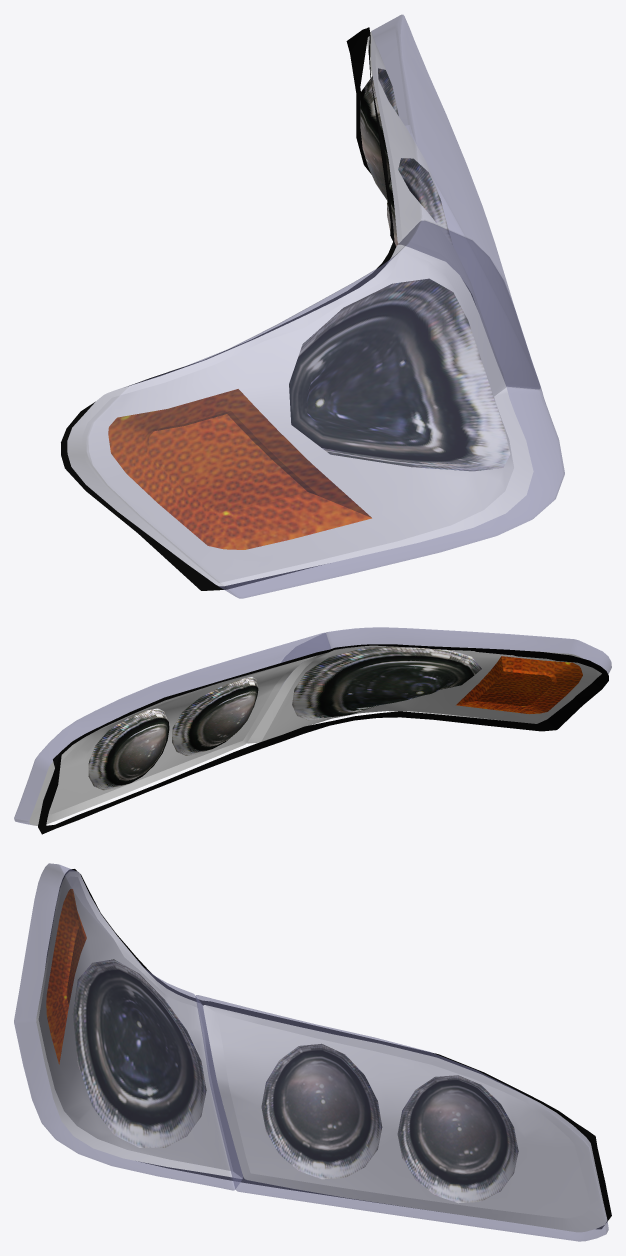
3 renders of one model, top to bottom at view 1: azimuth 30°, elevation 25°; view 2: azimuth 150°, elevation 25°; view 3: azimuth 270°, elevation 25°, orthographic. The views are drawn at different scales.
Visible parts, largest first — view 1: Y173_061B_R_Y173_061B_R_7_DTaSI, Y173_061B_R_Y173_061B_R_1_DaS, Y173_061B_R_Y173_061B_R_5_N, Y173_061B_R_Y173_061B_R_6_N, Y173_061B_R_8_D_Y173_061B_R, Y173_061B_R_Y173_061B_R_4_N, Y173_061B_R_Y173_061B_R_3_N; view 2: Y173_061B_R_Y173_061B_R_1_DaS, Y173_061B_R_Y173_061B_R_7_DTaSI, Y173_061B_R_Y173_061B_R_5_N, Y173_061B_R_8_D_Y173_061B_R, Y173_061B_R_Y173_061B_R_6_N, Y173_061B_R_Y173_061B_R_4_N, Y173_061B_R_Y173_061B_R_3_N; view 3: Y173_061B_R_Y173_061B_R_7_DTaSI, Y173_061B_R_Y173_061B_R_1_DaS, Y173_061B_R_Y173_061B_R_5_N, Y173_061B_R_Y173_061B_R_3_N, Y173_061B_R_Y173_061B_R_4_N, Y173_061B_R_Y173_061B_R_6_N, Y173_061B_R_8_D_Y173_061B_R.
Part boxes in pixels (x1,y1,x2,y2): Y173_061B_R_Y173_061B_R_7_DTaSI: (67,14,564,598); Y173_061B_R_Y173_061B_R_1_DaS: (67,31,533,586); Y173_061B_R_Y173_061B_R_5_N: (289,278,509,471); Y173_061B_R_Y173_061B_R_6_N: (108,389,371,549); Y173_061B_R_8_D_Y173_061B_R: (61,27,396,590); Y173_061B_R_Y173_061B_R_4_N: (360,68,398,200); Y173_061B_R_Y173_061B_R_3_N: (387,158,475,304); Y173_061B_R_Y173_061B_R_1_DaS: (29,645,601,825); Y173_061B_R_Y173_061B_R_7_DTaSI: (14,627,611,824); Y173_061B_R_Y173_061B_R_5_N: (292,646,481,720); Y173_061B_R_8_D_Y173_061B_R: (38,644,608,834); Y173_061B_R_Y173_061B_R_6_N: (456,656,582,714); Y173_061B_R_Y173_061B_R_4_N: (88,708,169,790); Y173_061B_R_Y173_061B_R_3_N: (172,676,258,755); Y173_061B_R_Y173_061B_R_7_DTaSI: (14,863,608,1241); Y173_061B_R_Y173_061B_R_1_DaS: (36,871,607,1232); Y173_061B_R_Y173_061B_R_5_N: (72,959,206,1147); Y173_061B_R_Y173_061B_R_3_N: (261,1044,382,1179); Y173_061B_R_Y173_061B_R_4_N: (397,1075,518,1203); Y173_061B_R_Y173_061B_R_6_N: (46,889,86,1064); Y173_061B_R_8_D_Y173_061B_R: (46,869,611,1228).
Bounding box in the file's own units: 49.28 × 15.16 × 51.09.
